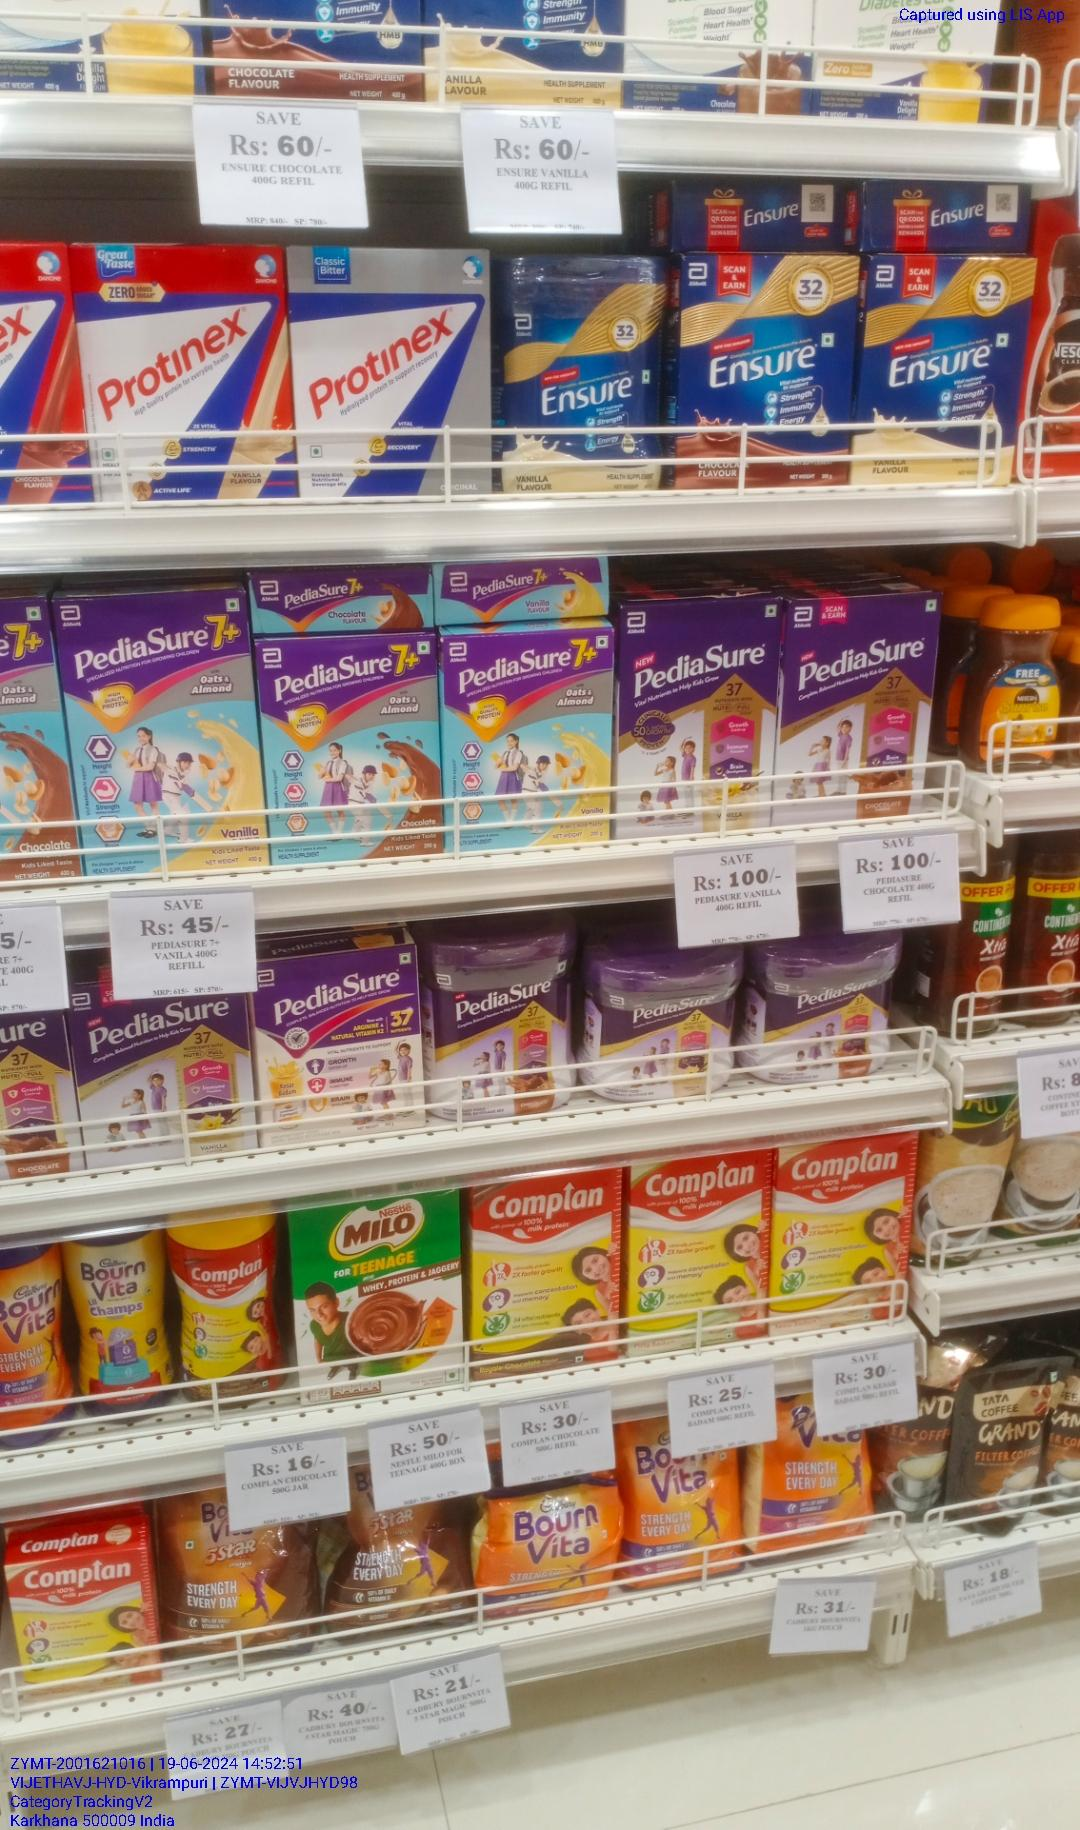BOURN_VITA_500_G_POUCH: (482, 1492, 618, 1608)
BOURN_VITA_750_G_POUCH: (630, 1438, 741, 1577)
BOURN_VITA_CHAMPS_500_G_JAR: (73, 1229, 170, 1425)
BOURN_VITA_FIVE_STAR_MAGIC_500_G_POUCH: (167, 1520, 319, 1658), (325, 1515, 472, 1636)
COMPLAN_CHOCOLATE_500_GMS_JAR: (176, 1216, 284, 1410)
COMPLAN_KESAR_BADAM_200_GMS_PACK: (14, 1554, 156, 1689)
ENSURE_VANILLA_400_G_PACK: (861, 247, 1027, 483)
PEDIASURE_VANILLA_500_G_PACK: (77, 1005, 249, 1160)
